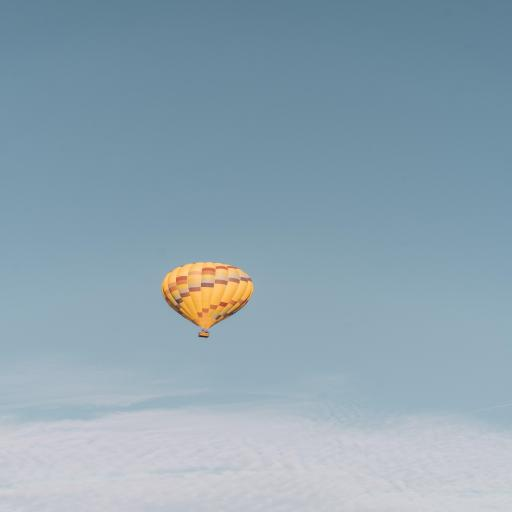hot air ballon: (162, 262, 253, 337)
